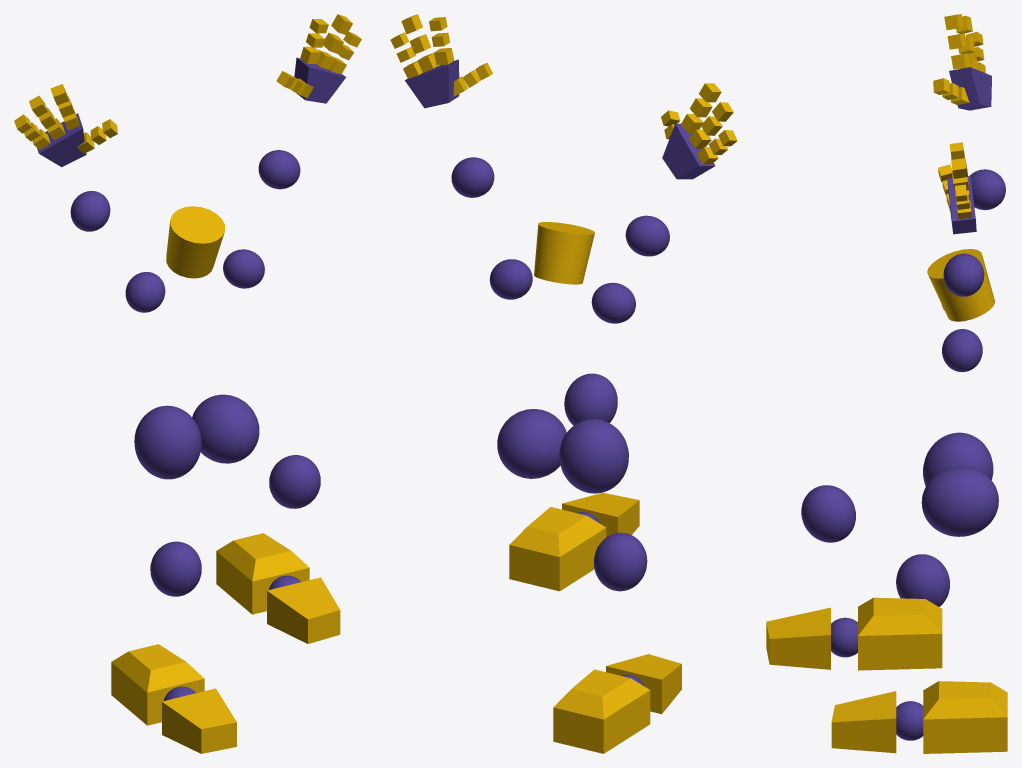
The model's file is Dummy_AnimData_Falling_Test02.fbx.
3 views of the same model, side by side, from view 1: azimuth 30°, elevation 25°; view 2: azimuth 150°, elevation 25°; view 3: azimuth 270°, elevation 25° (orthographic). The views are drawn at different scales.
Parts seen in each view (by area): view 1: pCube31, pCube34, pSphere10, pCube35, pCube30, pSphere9, pCylinder1, pSphere1, pSphere2, pSphere4, pSphere7, pSphere8 (+3 smaller); view 2: pCube34, pCube31, pSphere10, pSphere9, pCylinder1, pSphere1, pCube35, pSphere2, pCube30, pCube2, pCube15, pSphere3 (+3 smaller); view 3: pCube34, pCube31, pSphere9, pCube35, pCube30, pSphere2, pSphere10, pCylinder1, pSphere1, pSphere4, pSphere7, pCube15 (+4 smaller).
Boxes of the visible parts, left/top/right/bottom form: pCube31: left=216, top=533, right=309, bottom=614; pCube34: left=111, top=644, right=204, bottom=725; pSphere10: left=134, top=405, right=201, bottom=479; pCube35: left=162, top=688, right=236, bottom=753; pCube30: left=267, top=577, right=340, bottom=643; pSphere9: left=192, top=394, right=259, bottom=463; pCylinder1: left=166, top=206, right=225, bottom=278; pSphere1: left=150, top=541, right=201, bottom=596; pSphere2: left=269, top=455, right=320, bottom=508; pSphere4: left=258, top=150, right=300, bottom=189; pSphere7: left=223, top=249, right=264, bottom=288; pSphere8: left=125, top=272, right=165, bottom=312; pCube34: left=553, top=669, right=650, bottom=753; pCube31: left=509, top=507, right=606, bottom=591; pSphere10: left=559, top=419, right=628, bottom=493; pSphere9: left=497, top=409, right=566, bottom=478; pCylinder1: left=534, top=222, right=594, bottom=284; pSphere1: left=594, top=532, right=647, bottom=591; pCube35: left=606, top=654, right=681, bottom=714; pSphere2: left=564, top=373, right=617, bottom=425; pCube30: left=562, top=493, right=639, bottom=537; pCube2: left=405, top=59, right=459, bottom=108; pCube15: left=662, top=123, right=715, bottom=179; pSphere3: left=625, top=215, right=669, bottom=256; pCube34: left=923, top=681, right=1007, bottom=753; pCube31: left=858, top=597, right=942, bottom=670; pSphere9: left=921, top=466, right=998, bottom=536; pCube35: left=831, top=691, right=896, bottom=753; pCube30: left=766, top=607, right=830, bottom=669; pSphere2: left=801, top=485, right=855, bottom=542; pSphere10: left=923, top=432, right=993, bottom=486; pCylinder1: left=927, top=249, right=995, bottom=321; pSphere1: left=896, top=554, right=949, bottom=606; pSphere4: left=943, top=253, right=984, bottom=296; pSphere7: left=942, top=329, right=982, bottom=372; pCube15: left=949, top=67, right=991, bottom=110.
Size of the model in its own units: 0.8695 by 1.59 by 0.5164.
